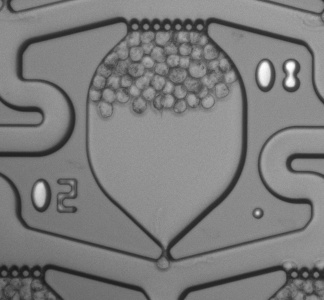AptNum: (248, 54, 310, 99)
Marker: (243, 200, 273, 227)
StNum: (25, 173, 87, 223)
Trap: (144, 250, 188, 292)
